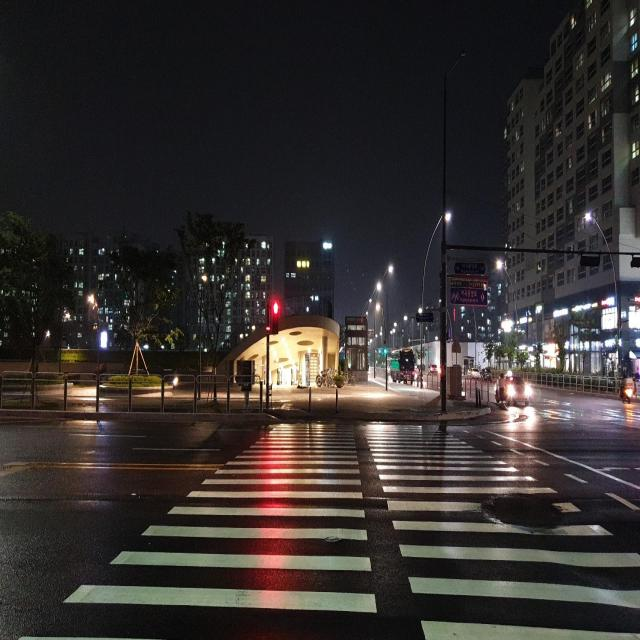빨간불: (268, 298, 280, 336)
횡단보도: (60, 420, 640, 640)
